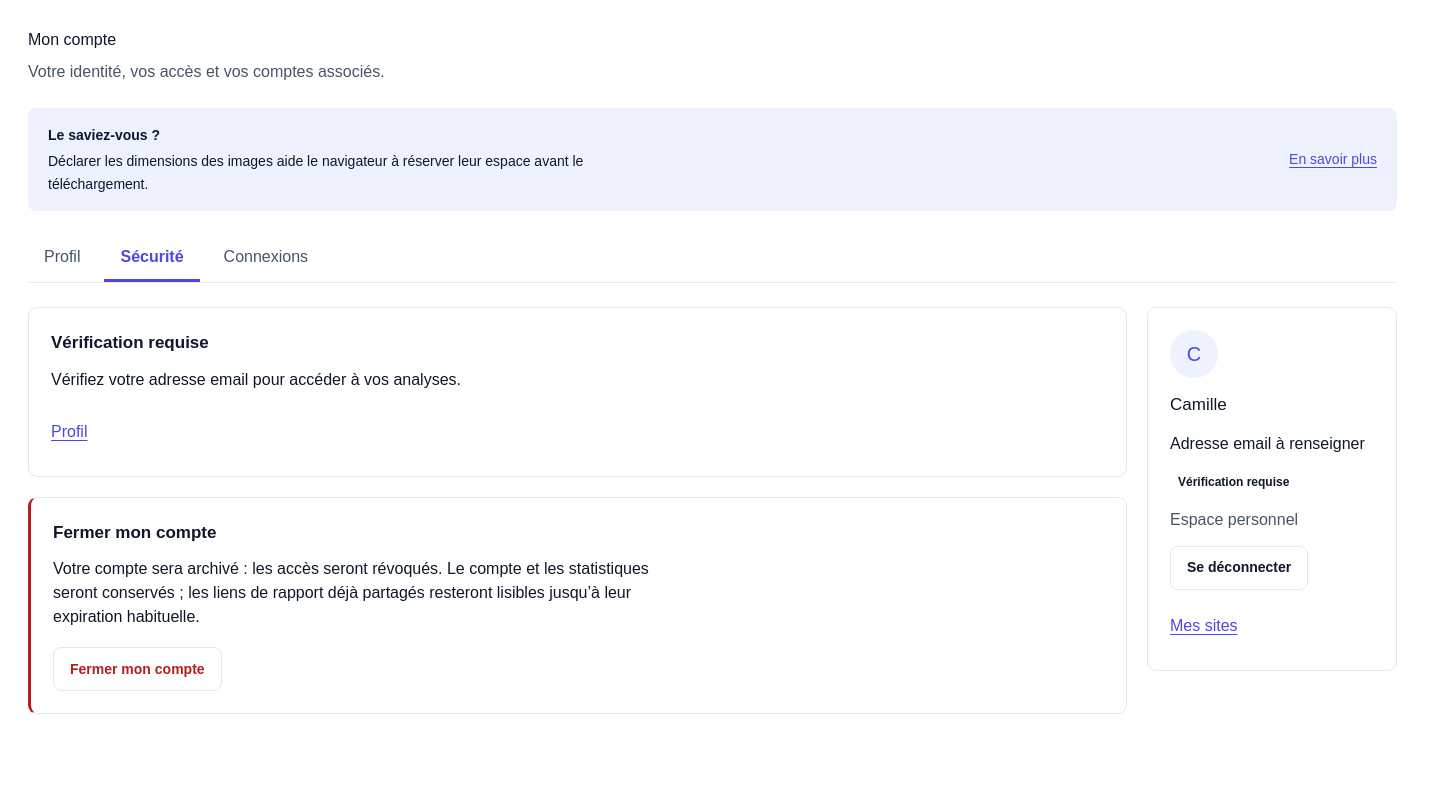
lets an email-less social account close using recent sign-in, or request sign-in again (expired=true)
This screenshot has width=1440, height=810.
Click the button "Fermer mon compte".
click(137, 669)  # box top-left (53, 647), bottom-right (222, 691)
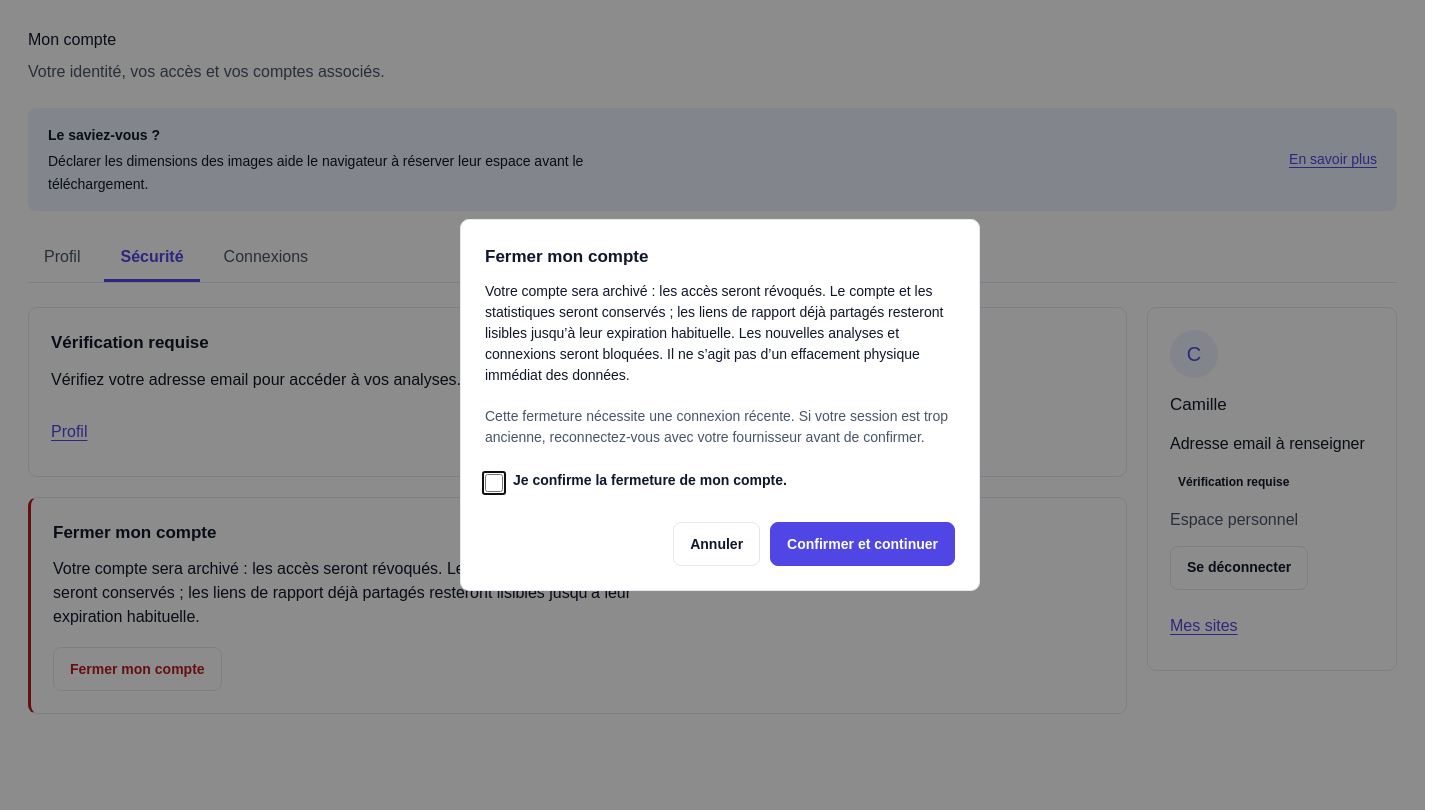
Expected: the button "Confirmer et continuer" is disabled, top-left (770, 522), bottom-right (955, 566)
Click the checkbox.
click(494, 483)  # box top-left (485, 474), bottom-right (503, 492)
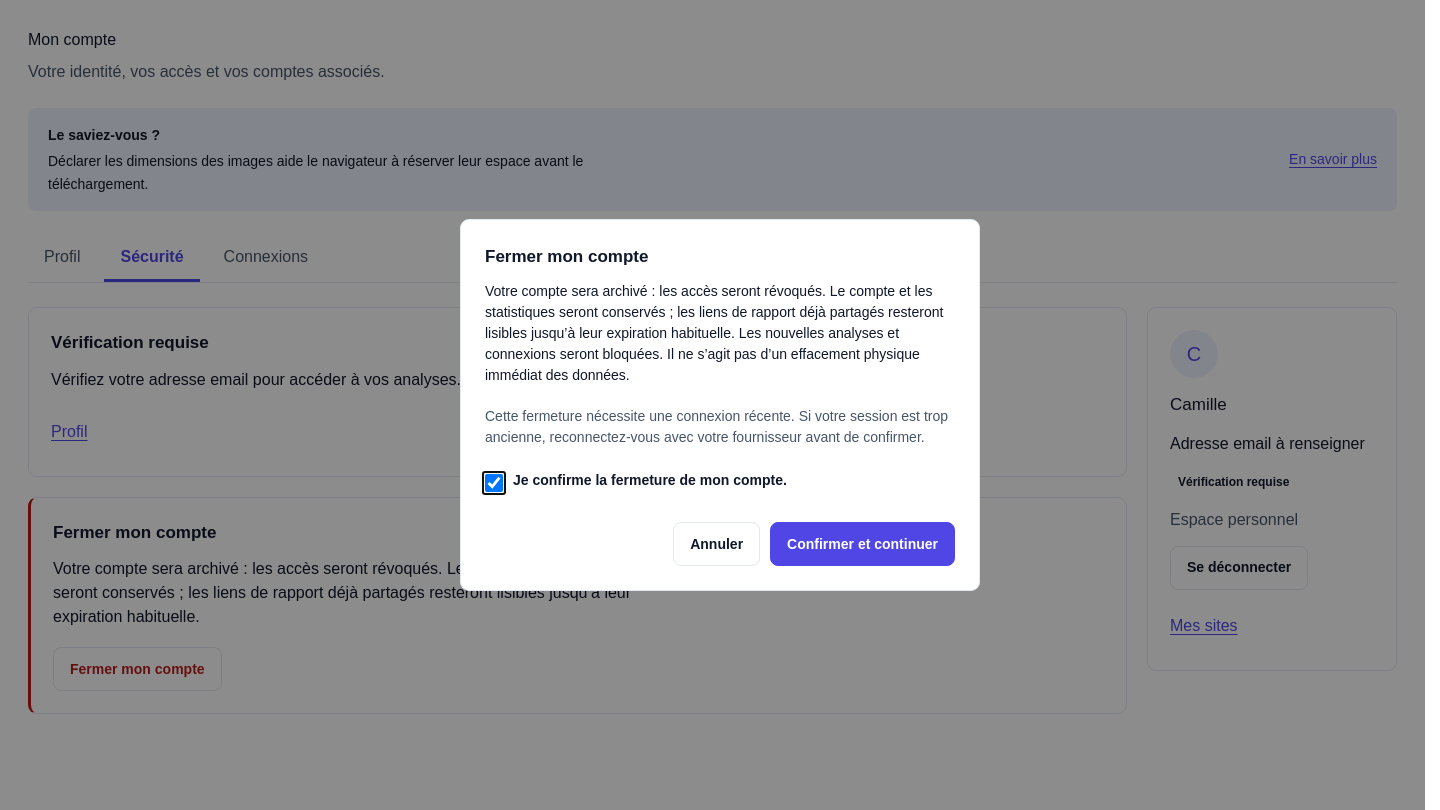
Expected: the button "Confirmer et continuer" is enabled, top-left (770, 522), bottom-right (955, 566)
Submit the form named "Confirmer et continuer", box top-left (485, 406), bottom-right (955, 566)
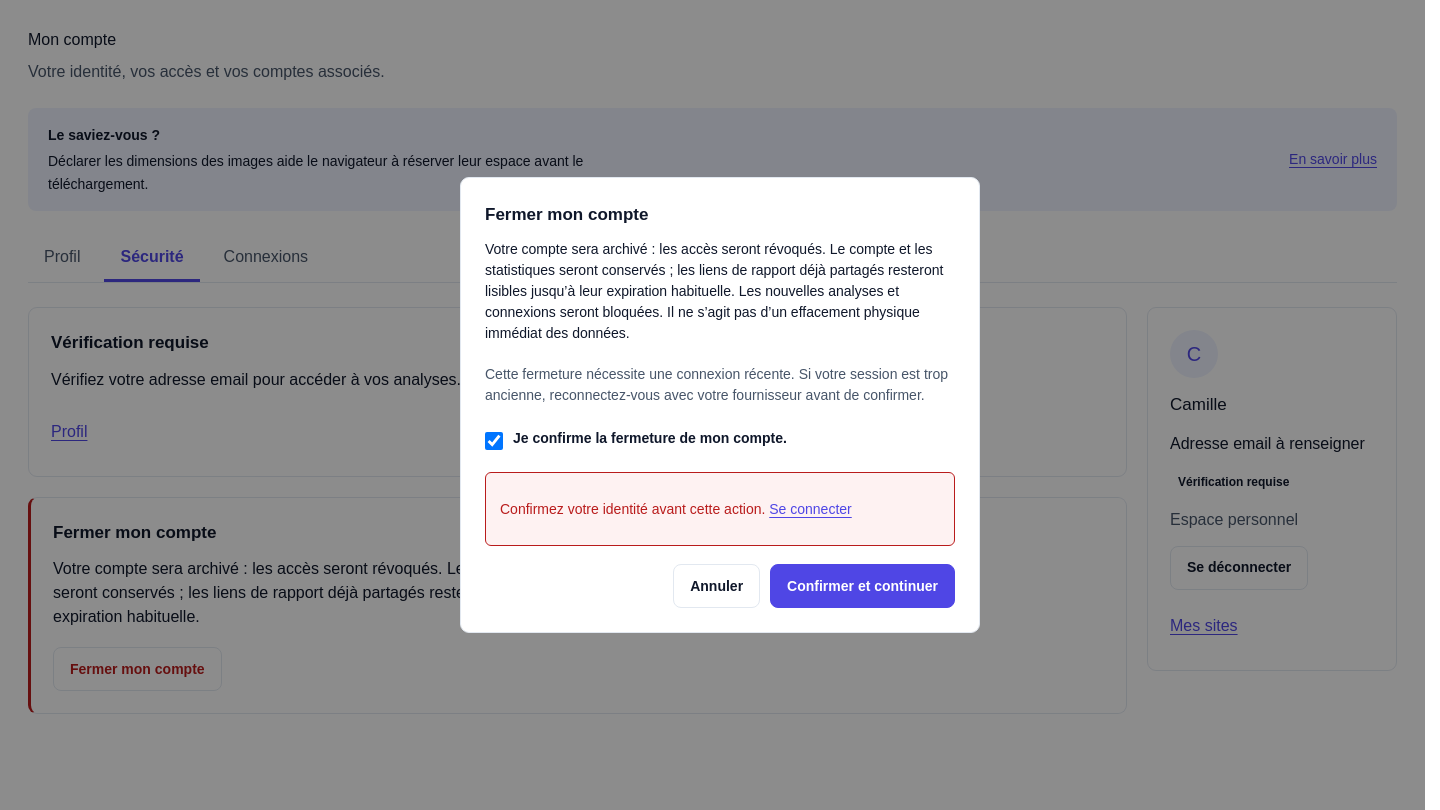
Expected: the message shows "Confirmez votre identité", top-left (500, 501), bottom-right (765, 517)
